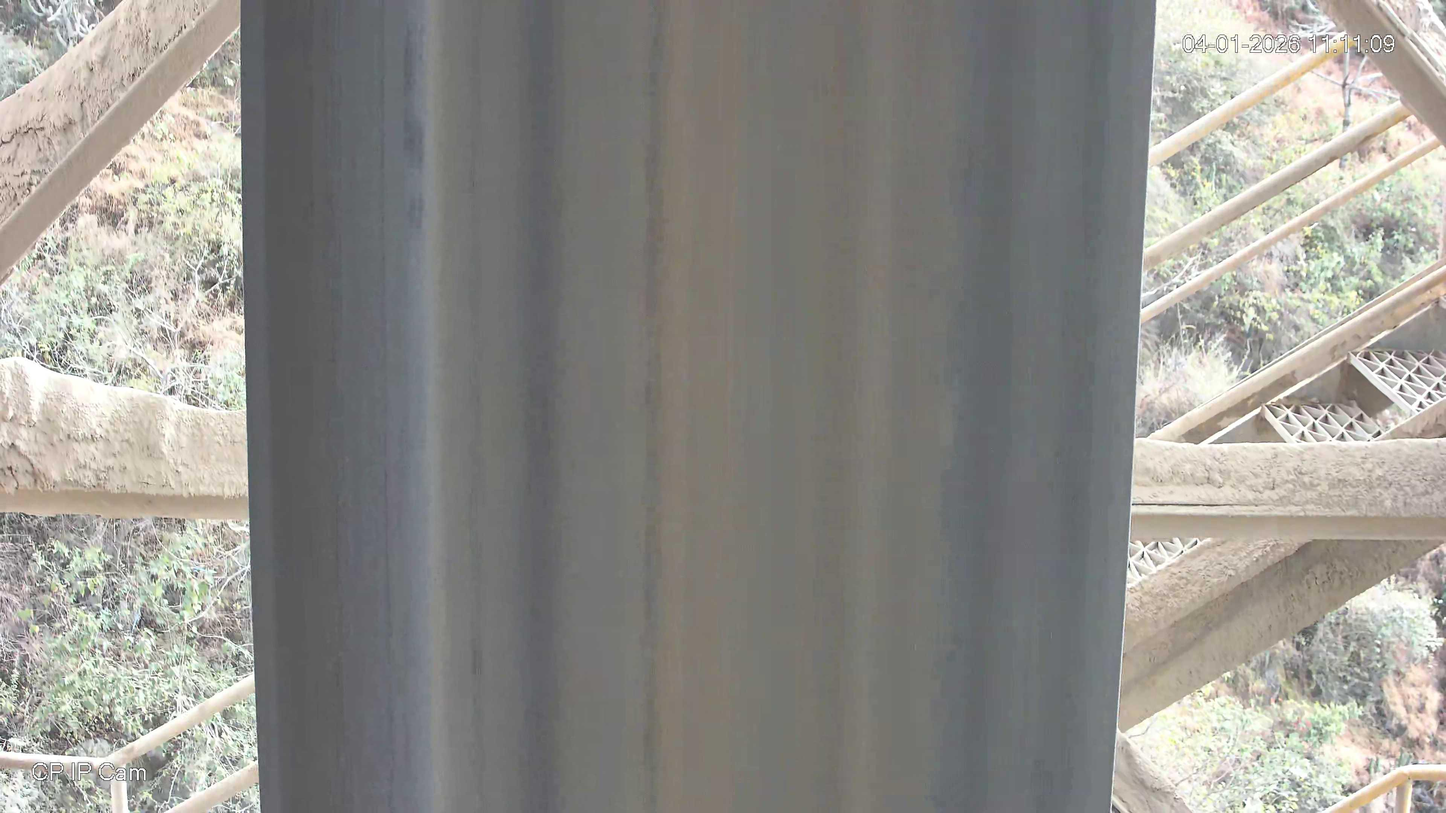belt_roi: (241, 0, 1156, 813)
